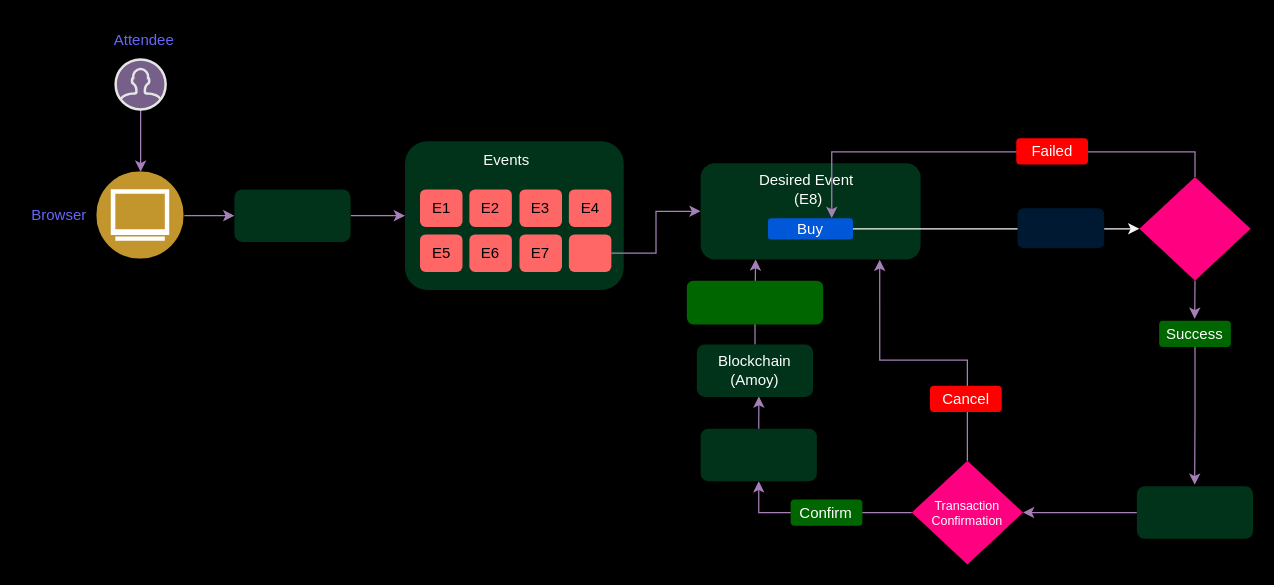
The diagram is 1274 pixels wide and 585 high, and some of its shapes have lost their labels. Each missing label, with the centre of its shape:
E8: (589,252)
Landing Page: (292,215)
Metamask confirmation: (1194,512)
Smart contract buyTicket(): (758,454)
Ticket Purchased Successfully.: (754,302)
transaction Initiated: (1060,228)
validates transaction: (1194,228)
